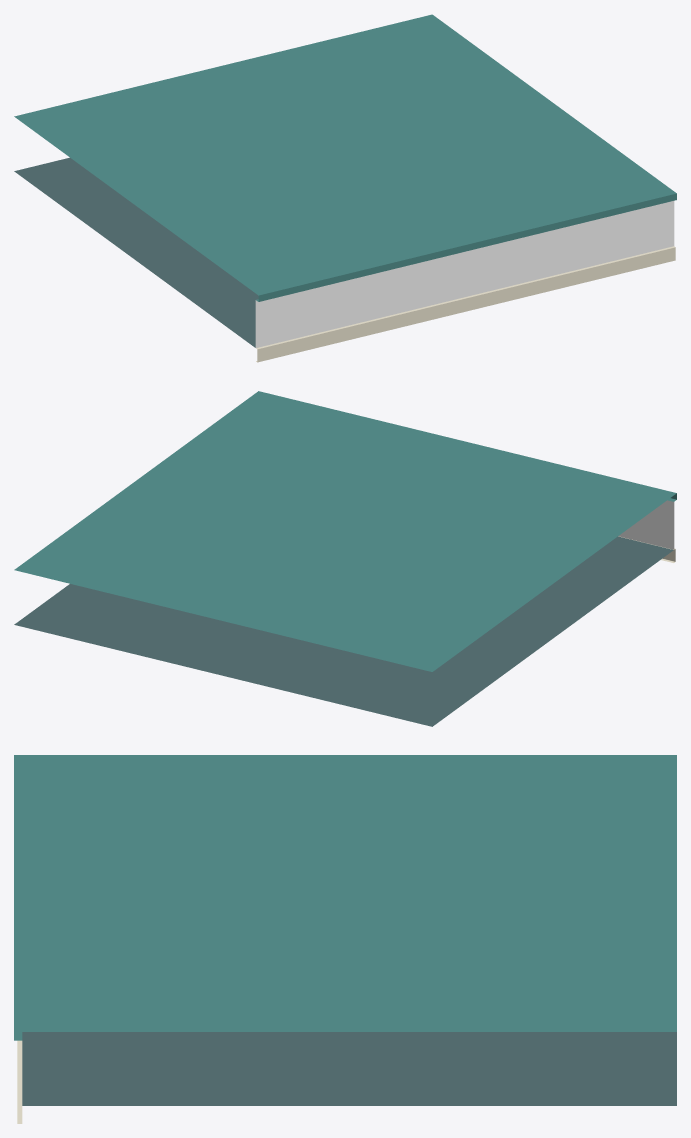
File: KC32__AD_Arc_Mezzanine_Open_Blue.glb
3 views of the same model, one above another, from view 1: azimuth 30°, elevation 25°; view 2: azimuth 150°, elevation 25°; view 3: azimuth 270°, elevation 25° (orthographic). The views are drawn at different scales.
Parts seen in each view (by area): view 1: KC32_CORPS__AD_Arc_Mezzanine_Open_Blue, KC32_ACCENT__AD_Arc_Mezzanine_Open_Blue, KC32_LUMIERE__AD_Arc_Mezzanine_Open_Blue; view 2: KC32_CORPS__AD_Arc_Mezzanine_Open_Blue, KC32_ACCENT__AD_Arc_Mezzanine_Open_Blue; view 3: KC32_CORPS__AD_Arc_Mezzanine_Open_Blue.
Boxes of the visible parts, box(x1,y1,x2,y2) form: KC32_CORPS__AD_Arc_Mezzanine_Open_Blue: box(14, 14, 676, 347); KC32_ACCENT__AD_Arc_Mezzanine_Open_Blue: box(255, 201, 674, 347); KC32_LUMIERE__AD_Arc_Mezzanine_Open_Blue: box(256, 246, 675, 362); KC32_CORPS__AD_Arc_Mezzanine_Open_Blue: box(14, 391, 676, 726); KC32_ACCENT__AD_Arc_Mezzanine_Open_Blue: box(618, 500, 674, 549); KC32_CORPS__AD_Arc_Mezzanine_Open_Blue: box(14, 755, 676, 1105).
Size of the model in its own units: 4 by 0.62 by 4.05.
